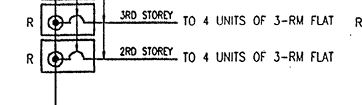Single Phase Tap-Off Unit: (35, 1, 100, 40), (36, 37, 98, 77)
